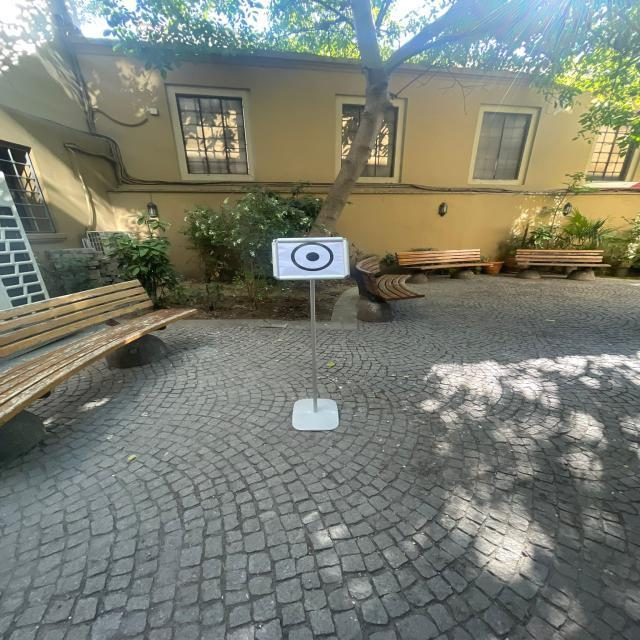Target: (256, 229, 370, 286)
inner: (300, 247, 325, 267)
